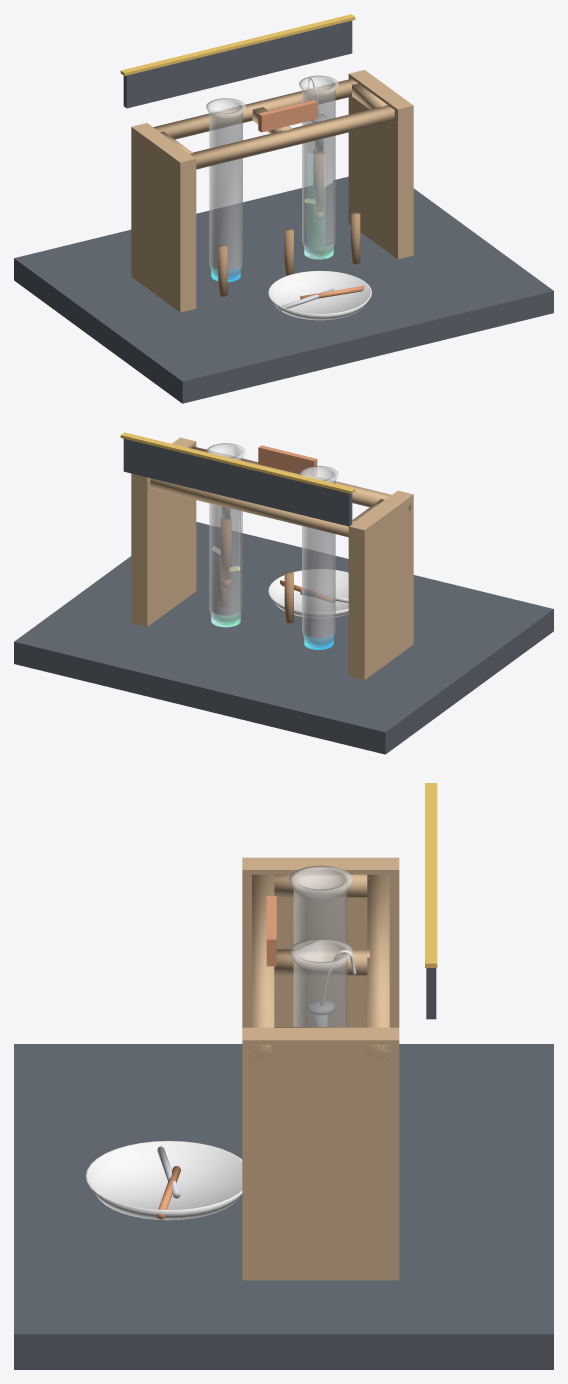
File: displacement-reaction-setup.glb
3 renders of one model, top to bottom at view 1: azimuth 30°, elevation 25°; view 2: azimuth 150°, elevation 25°; view 3: azimuth 270°, elevation 25°, orthographic. The views are drawn at different scales.
Parts seen in each view (by area): view 1: displacement-reaction-setup-plinth, displacement-reaction-setup-rack-pillar--0.082, displacement-reaction-setup-rack-pillar-0.082, displacement-reaction-setup-sec-plaque-bg, displacement-reaction-setup-rack-shelf, displacement-reaction-setup-tube-b, displacement-reaction-setup-sec-tube-a, displacement-reaction-setup-tube-a, displacement-reaction-setup-dish, displacement-reaction-setup-sec-tube-b, displacement-reaction-setup-sol-b, displacement-reaction-setup-sec-plaque-trim (+4 smaller); view 2: displacement-reaction-setup-plinth, displacement-reaction-setup-rack-pillar--0.082, displacement-reaction-setup-rack-pillar-0.082, displacement-reaction-setup-sec-plaque-bg, displacement-reaction-setup-sec-tube-a, displacement-reaction-setup-tube-b, displacement-reaction-setup-tube-a, displacement-reaction-setup-sec-tube-b, displacement-reaction-setup-rack-shelf, displacement-reaction-setup-dish, displacement-reaction-setup-sec-plaque-trim, displacement-reaction-setup-sec-react-badge (+2 smaller); view 3: displacement-reaction-setup-plinth, displacement-reaction-setup-rack-pillar-0.082, displacement-reaction-setup-rack-pillar--0.082, displacement-reaction-setup-rack-shelf, displacement-reaction-setup-dish, displacement-reaction-setup-tube-b, displacement-reaction-setup-sec-tube-b, displacement-reaction-setup-sec-tube-a, displacement-reaction-setup-tube-a, displacement-reaction-setup-sec-plaque-trim, displacement-reaction-setup-sec-react-badge.
Part boxes in pixels (x1,y1,x2,y2): displacement-reaction-setup-plinth: [14, 176, 553, 403]; displacement-reaction-setup-rack-pillar--0.082: [131, 123, 196, 312]; displacement-reaction-setup-rack-pillar-0.082: [348, 70, 413, 259]; displacement-reaction-setup-sec-plaque-bg: [123, 20, 352, 108]; displacement-reaction-setup-rack-shelf: [153, 78, 394, 169]; displacement-reaction-setup-tube-b: [299, 76, 338, 256]; displacement-reaction-setup-sec-tube-a: [206, 98, 245, 276]; displacement-reaction-setup-tube-a: [206, 98, 245, 276]; displacement-reaction-setup-dish: [268, 270, 371, 320]; displacement-reaction-setup-sec-tube-b: [299, 76, 338, 252]; displacement-reaction-setup-sol-b: [304, 153, 333, 259]; displacement-reaction-setup-sec-plaque-trim: [120, 14, 355, 75]; displacement-reaction-setup-plinth: [14, 522, 553, 754]; displacement-reaction-setup-rack-pillar--0.082: [348, 490, 413, 680]; displacement-reaction-setup-rack-pillar-0.082: [131, 437, 196, 626]; displacement-reaction-setup-sec-plaque-bg: [123, 439, 352, 526]; displacement-reaction-setup-sec-tube-a: [299, 466, 338, 644]; displacement-reaction-setup-tube-b: [206, 443, 245, 621]; displacement-reaction-setup-tube-a: [299, 466, 338, 643]; displacement-reaction-setup-sec-tube-b: [206, 443, 242, 621]; displacement-reaction-setup-rack-shelf: [150, 446, 410, 537]; displacement-reaction-setup-dish: [268, 569, 348, 617]; displacement-reaction-setup-sec-plaque-trim: [120, 432, 355, 494]; displacement-reaction-setup-sec-react-badge: [258, 445, 317, 477]; displacement-reaction-setup-plinth: [14, 1044, 553, 1369]; displacement-reaction-setup-rack-pillar-0.082: [242, 1027, 399, 1280]; displacement-reaction-setup-rack-pillar--0.082: [242, 857, 399, 1027]; displacement-reaction-setup-rack-shelf: [252, 874, 389, 1061]; displacement-reaction-setup-dish: [85, 1140, 242, 1220]; displacement-reaction-setup-tube-b: [289, 938, 352, 1026]; displacement-reaction-setup-sec-tube-b: [289, 938, 352, 1026]; displacement-reaction-setup-sec-tube-a: [289, 866, 352, 944]; displacement-reaction-setup-tube-a: [289, 866, 352, 944]; displacement-reaction-setup-sec-plaque-trim: [425, 783, 437, 967]; displacement-reaction-setup-sec-react-badge: [266, 896, 276, 966].
Size of the model in its own units: 0.28 by 0.158 by 0.22.
